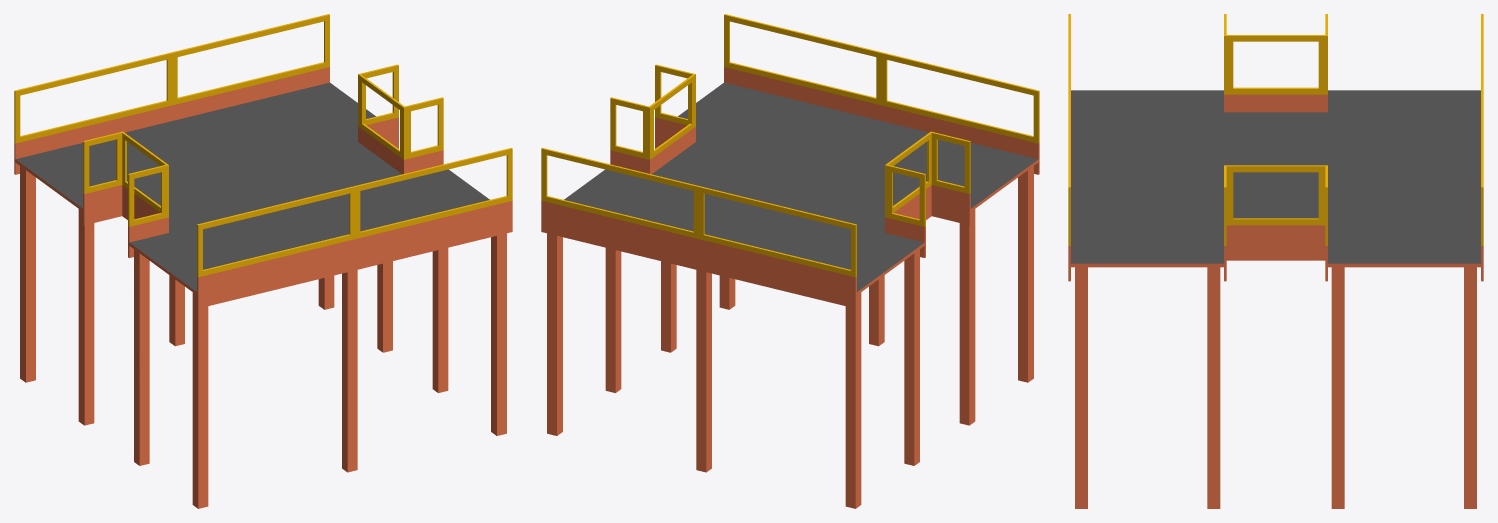
Rendered from Prop_Industrial_Platform_Walkway_Wide_H_Joint_01.FBX.
The picture shows the model from 3 angles, left to right: view 1: azimuth 30°, elevation 25°; view 2: azimuth 150°, elevation 25°; view 3: azimuth 270°, elevation 25°; orthographic projection. The views are drawn at different scales.
Visible parts, largest first — view 1: Prop_Industrial_Platform_Walkway_Wide_H_Joint_01; view 2: Prop_Industrial_Platform_Walkway_Wide_H_Joint_01; view 3: Prop_Industrial_Platform_Walkway_Wide_H_Joint_01.
Boxes of the visible parts, bbox=[...] form: Prop_Industrial_Platform_Walkway_Wide_H_Joint_01: bbox=[14, 14, 512, 508]; Prop_Industrial_Platform_Walkway_Wide_H_Joint_01: bbox=[541, 14, 1039, 508]; Prop_Industrial_Platform_Walkway_Wide_H_Joint_01: bbox=[1068, 14, 1483, 508].
Size of the model in its own units: 6320 by 5500 by 6400.
